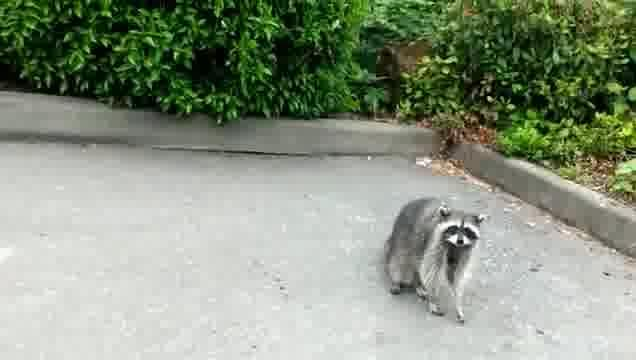raccoon: (382, 197, 488, 325)
